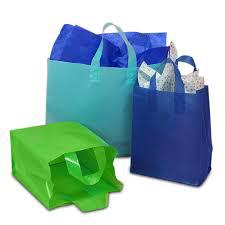Plastic: (41, 26, 175, 163), (6, 118, 123, 219), (131, 66, 210, 189)
